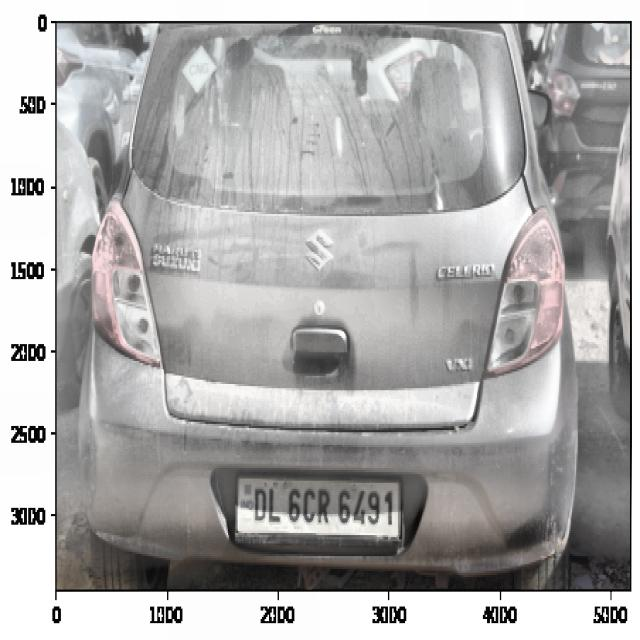license_plate: (249, 479, 401, 536)
